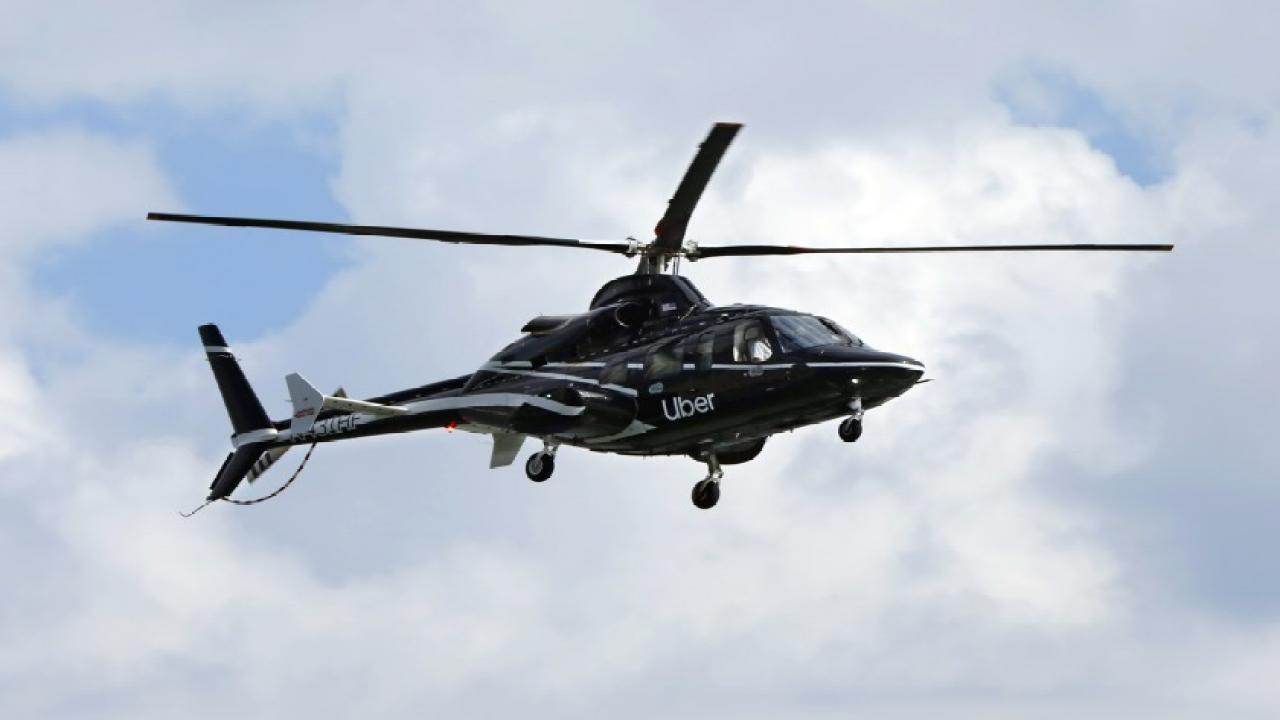Helicopter: (101, 93, 1202, 556)
